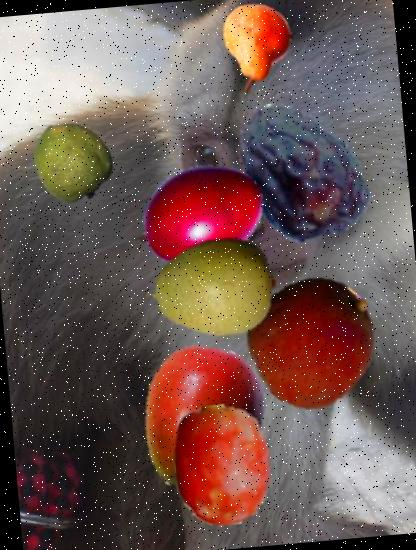Dates: (228, 92, 382, 246)
Grape: (158, 400, 290, 532)
Limes: (28, 116, 118, 206)
Mango: (120, 337, 280, 498)
Peach: (240, 270, 382, 412)
Pear: (140, 218, 282, 358), (211, 0, 309, 95)
Tamarillo: (121, 142, 273, 294)
